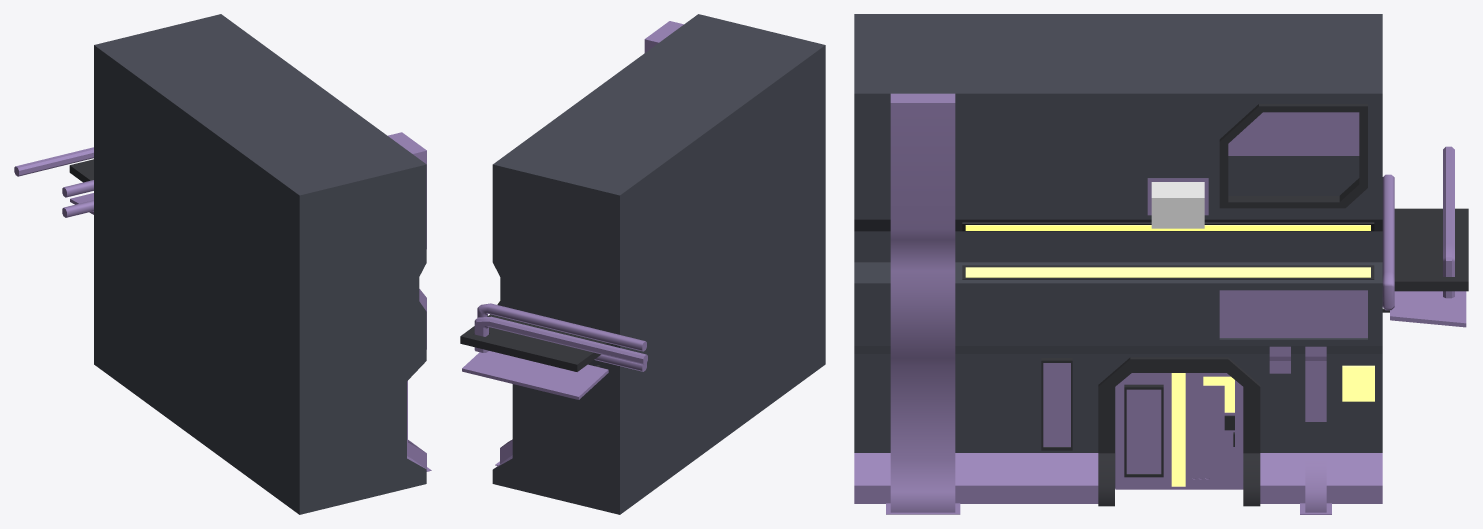
File: Building_L_01_Env_BLOCK.fbx
3 views of the same model, side by side, from view 1: azimuth 30°, elevation 25°; view 2: azimuth 150°, elevation 25°; view 3: azimuth 270°, elevation 25° (orthographic). The views are drawn at different scales.
Parts seen in each view (by area): view 1: BuildingBase_BLOCK, Pipe_SideHalf_BLOCK, Pipe_Long_01_BLOCK, Pipe_SideFull_BLOCK; view 2: BuildingBase_BLOCK, HangingGrate_BLOCK, HangingBlock_BLOCK, Pipe_SideFull_BLOCK, Pipe_SideHalf_BLOCK; view 3: BuildingBase_BLOCK, Pipe_Long_01_BLOCK, Pipe_Long_03_BLOCK, Pipe_Long_02_BLOCK, DoorBase_BLOCK, MidGrate_BLOCK, DoorFrame_BLOCK, HangingBlock_BLOCK, WindowGrate_BLOCK, WindowFrame_BLOCK, LightBottom_BLOCK, DoorGrate_BLOCK (+13 smaller).
Part boxes in pixels (x1,y1,x2,y2): BuildingBase_BLOCK: [94, 14, 426, 514]; Pipe_SideHalf_BLOCK: [14, 147, 93, 176]; Pipe_Long_01_BLOCK: [404, 144, 426, 469]; Pipe_SideFull_BLOCK: [62, 180, 93, 217]; BuildingBase_BLOCK: [492, 14, 825, 514]; HangingGrate_BLOCK: [462, 351, 608, 399]; HangingBlock_BLOCK: [460, 314, 610, 371]; Pipe_SideFull_BLOCK: [477, 303, 646, 371]; Pipe_SideHalf_BLOCK: [474, 316, 647, 364]; BuildingBase_BLOCK: [854, 14, 1382, 503]; Pipe_Long_01_BLOCK: [890, 93, 912, 512]; Pipe_Long_03_BLOCK: [933, 93, 955, 512]; Pipe_Long_02_BLOCK: [912, 93, 933, 512]; DoorBase_BLOCK: [1115, 373, 1243, 489]; MidGrate_BLOCK: [1219, 290, 1367, 337]; DoorFrame_BLOCK: [1098, 357, 1260, 506]; HangingBlock_BLOCK: [1394, 208, 1468, 291]; WindowGrate_BLOCK: [1228, 112, 1359, 155]; WindowFrame_BLOCK: [1219, 104, 1367, 208]; LightBottom_BLOCK: [965, 267, 1370, 277]; DoorGrate_BLOCK: [1126, 389, 1161, 473].
Bounding box in the file's own units: 4.03 × 6 × 8.14.
